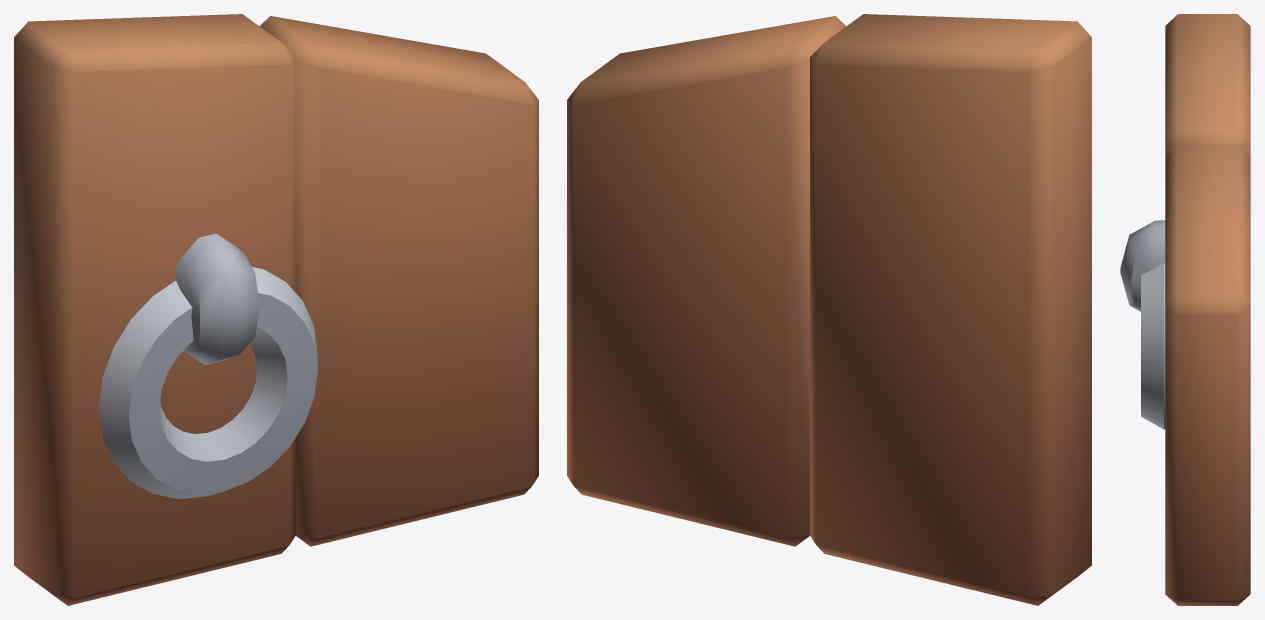
File: gate_double_right.fbx
3 renders of one model, left to right at view 1: azimuth 30°, elevation 25°; view 2: azimuth 150°, elevation 25°; view 3: azimuth 270°, elevation 25°, orthographic. The views are drawn at different scales.
Visible parts, largest first — view 1: gate_double_right; view 2: gate_double_right; view 3: gate_double_right.
Part boxes in pixels (x1=…): gate_double_right: x1=14, y1=14, x2=538, y2=605; gate_double_right: x1=567, y1=14, x2=1091, y2=605; gate_double_right: x1=1120, y1=14, x2=1250, y2=605.
Bounding box in the file's own units: 100 × 109 × 30.51.
